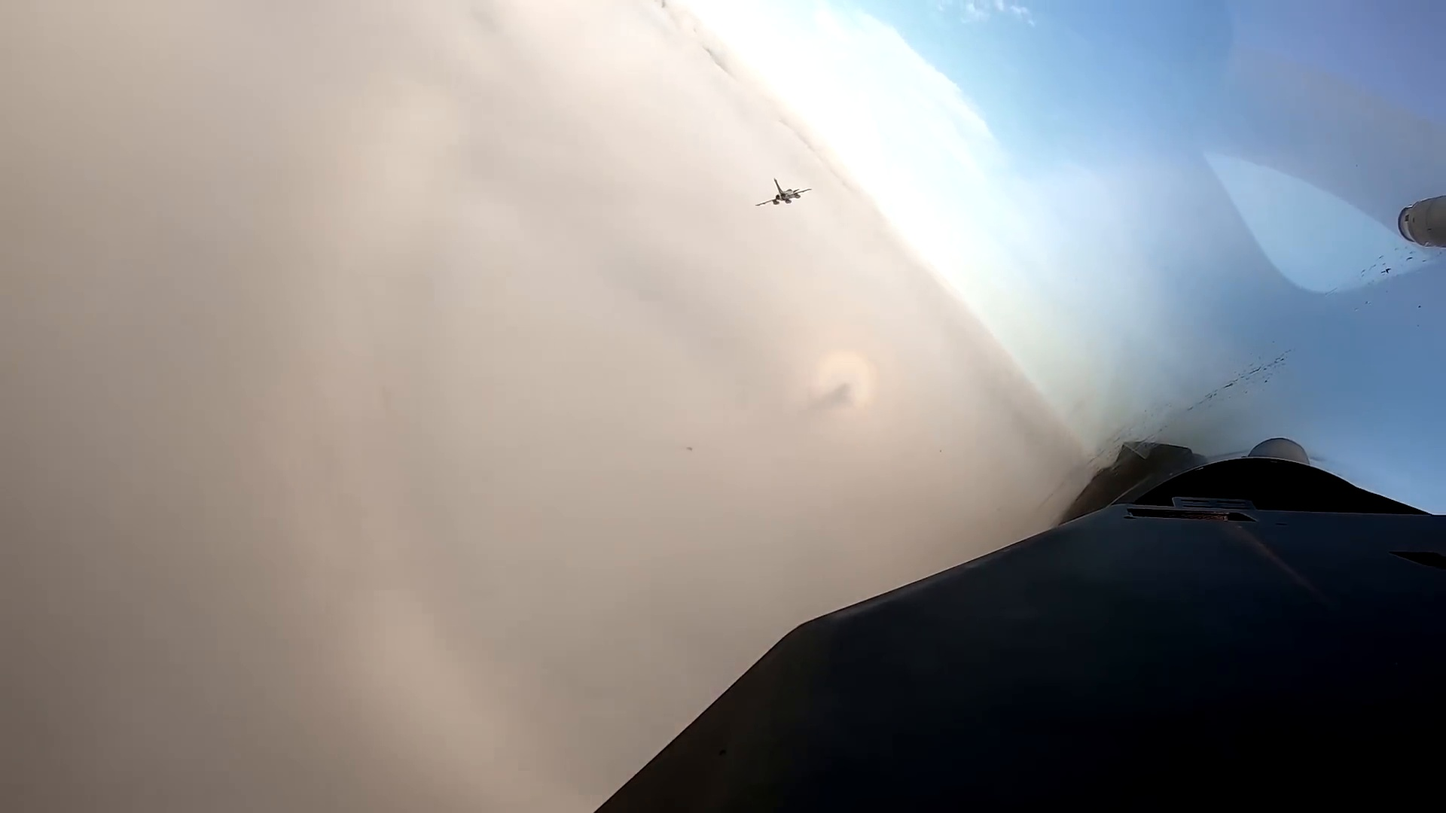Rafale: (754, 174, 813, 208)
